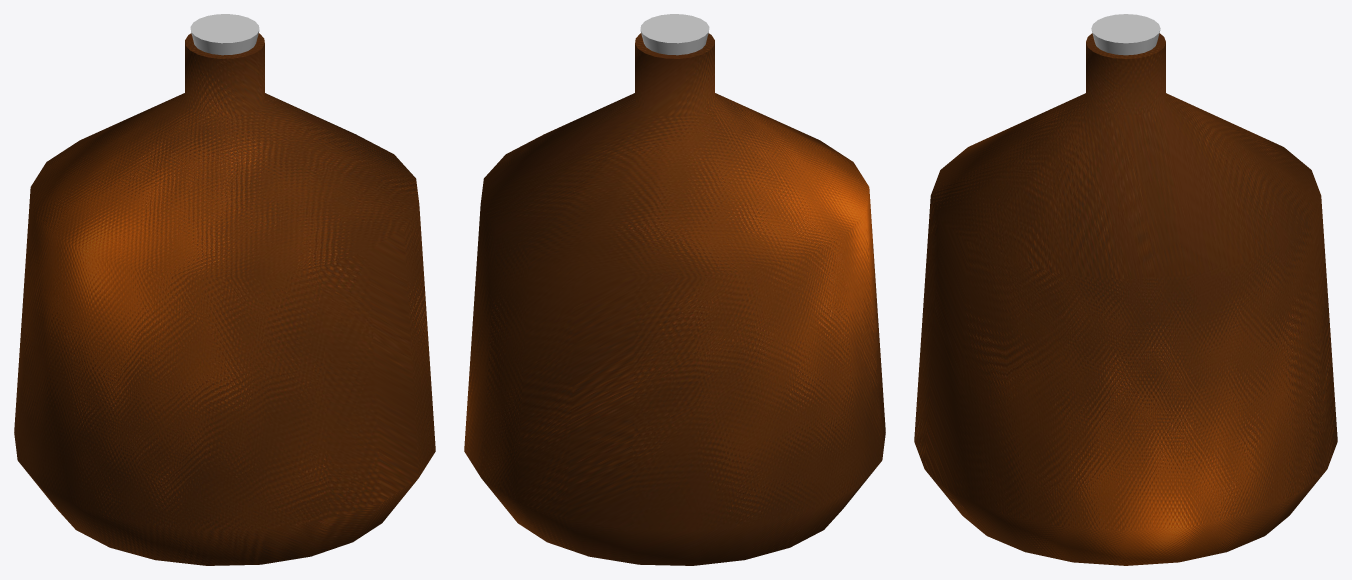
The model's file is DontDeleteJustInCase.fbx.
3 views of the same model, side by side, from view 1: azimuth 30°, elevation 25°; view 2: azimuth 150°, elevation 25°; view 3: azimuth 270°, elevation 25° (orthographic).
Parts seen in each view (by area): view 1: Bottle, Cork; view 2: Bottle, Cork; view 3: Bottle, Cork.
Part boxes in pixels (<box>): Bottle: <box>14,33,435,565</box>; Cork: <box>190,14,259,55</box>; Bottle: <box>464,33,885,565</box>; Cork: <box>640,14,709,55</box>; Bottle: <box>914,33,1337,565</box>; Cork: <box>1091,14,1160,55</box>.
Size of the model in its own units: 2 by 2.42 by 2.
